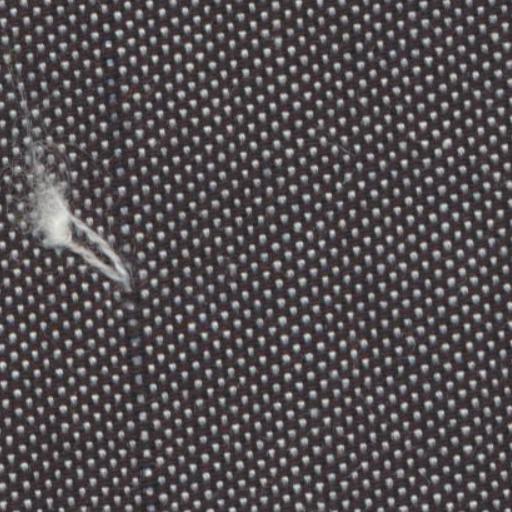DuanSha: (16, 91, 152, 299)
